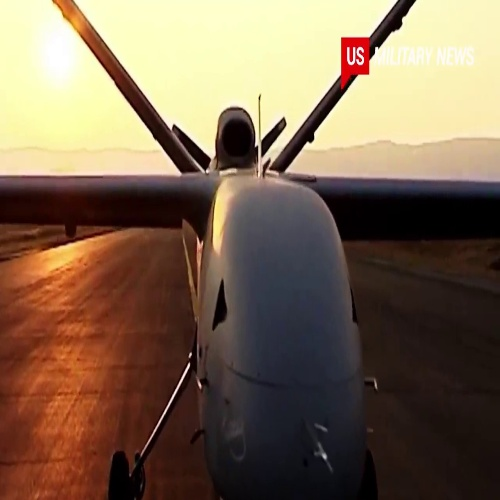uav269: (1, 1, 494, 500)
